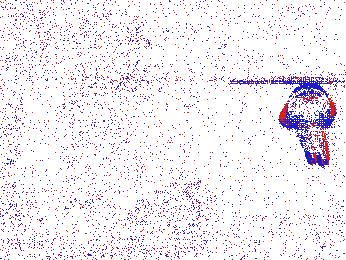flame jellyfish: (284, 83, 334, 167), (48, 184, 96, 232), (88, 185, 134, 226)
